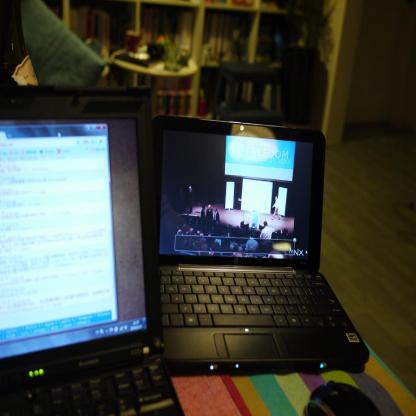board: (0, 87, 183, 416), (148, 112, 370, 378)
